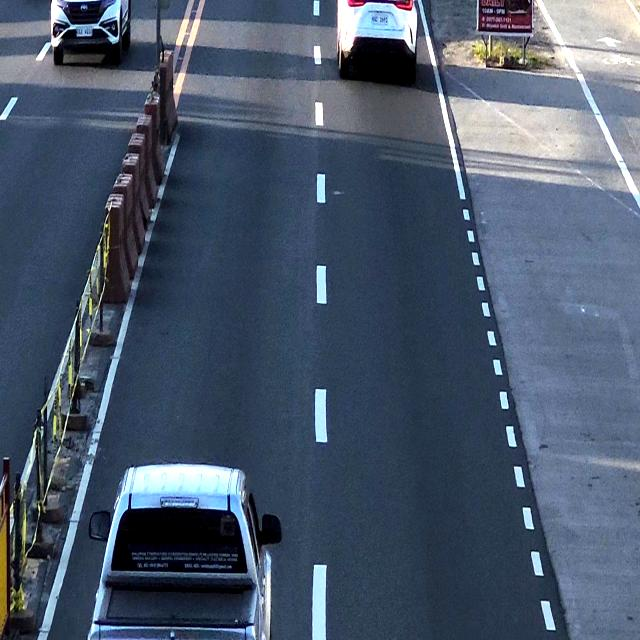Car: (93, 463, 271, 640), (339, 0, 416, 70)
License-Plate: (368, 12, 389, 28)
